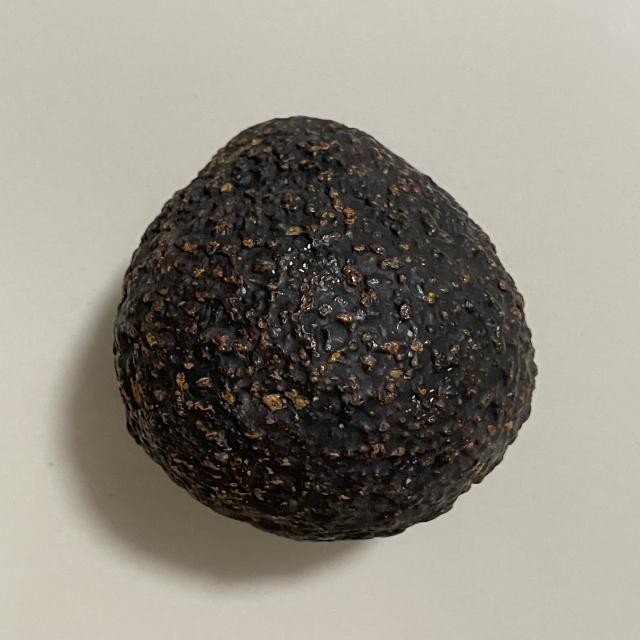Level3: (100, 109, 548, 553)
